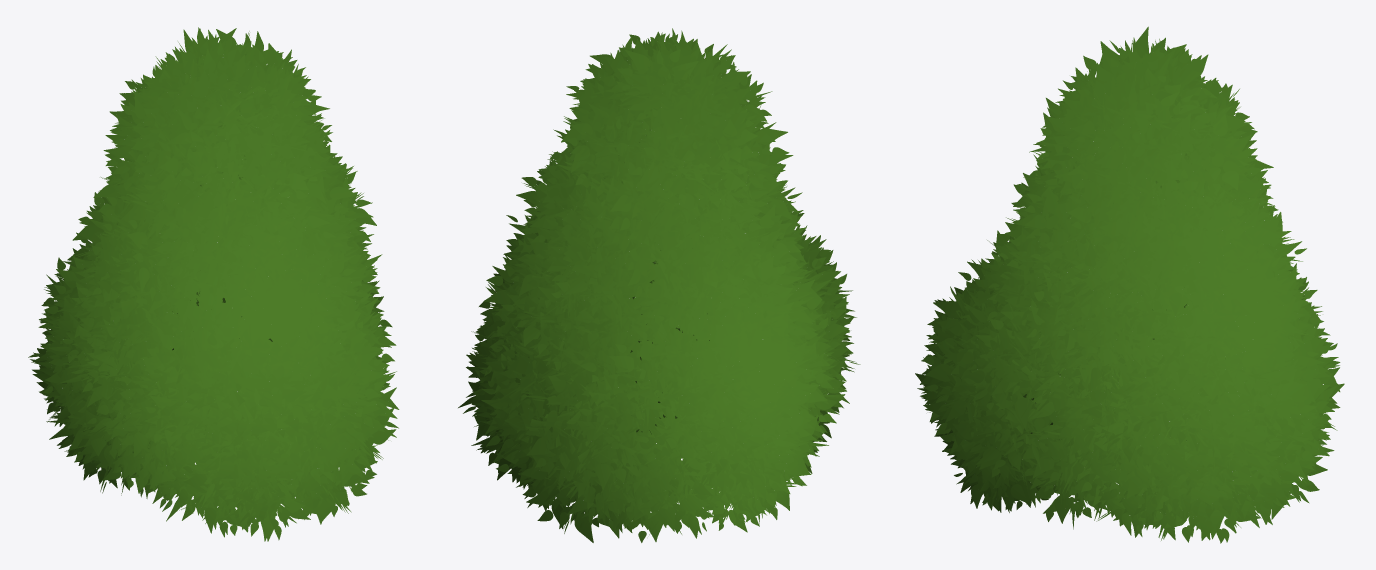
File: Bush2.fbx
3 views of the same model, side by side, from view 1: azimuth 30°, elevation 25°; view 2: azimuth 150°, elevation 25°; view 3: azimuth 270°, elevation 25° (orthographic). The views are drawn at different scales.
Visible parts, largest first — view 1: Leaf.004; view 2: Leaf.004; view 3: Leaf.004.
Boxes of the visible parts, left/top/right/bottom form: Leaf.004: left=28, top=27, right=399, bottom=541; Leaf.004: left=458, top=28, right=860, bottom=542; Leaf.004: left=915, top=26, right=1344, bottom=543.
Size of the model in its own units: 79.76 by 101 by 87.
